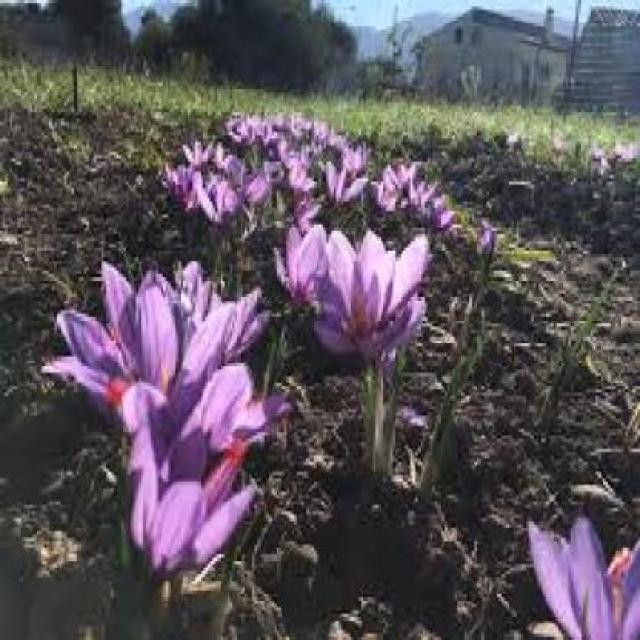Flower: (121, 406, 272, 597), (327, 236, 438, 371)
